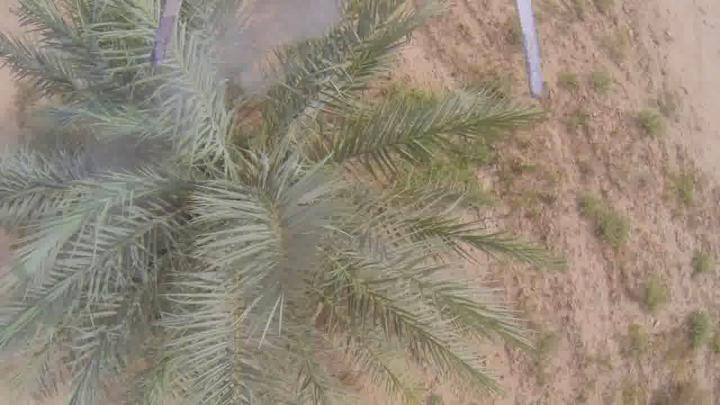Date-Palm-Crown: (26, 0, 426, 368)
